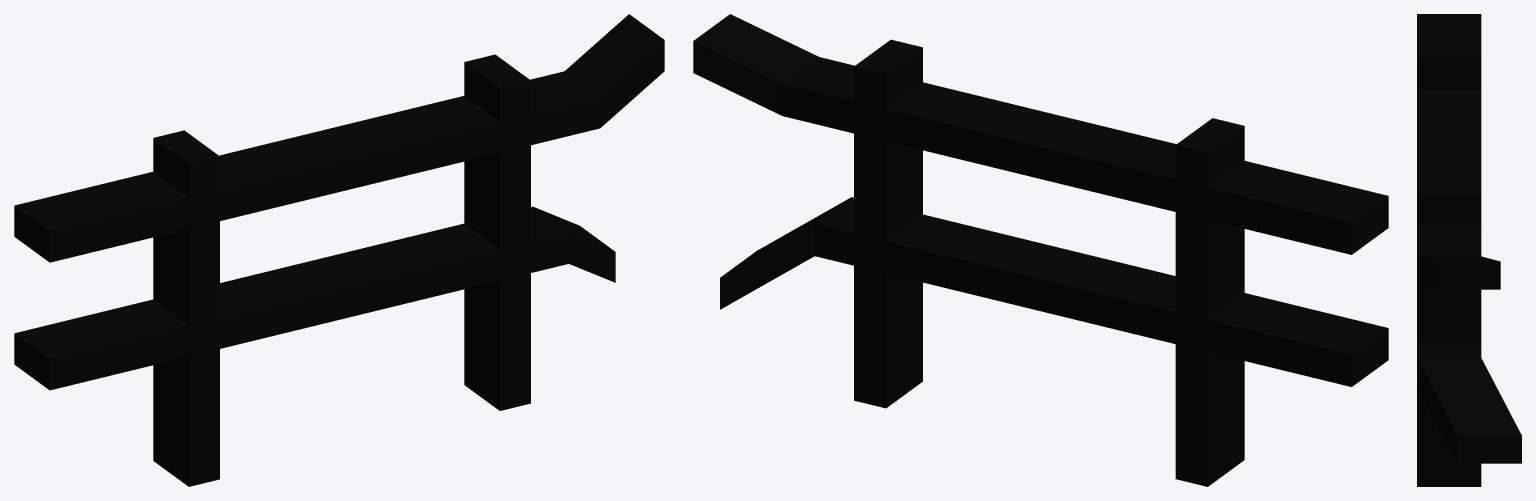
File: NewBrokenFence1.fbx
3 renders of one model, left to right at view 1: azimuth 30°, elevation 25°; view 2: azimuth 150°, elevation 25°; view 3: azimuth 270°, elevation 25°, orthographic. The views are drawn at different scales.
Visible parts, largest first — view 1: Cube.002; view 2: Cube.002; view 3: Cube.002.
Boxes of the visible parts, x1,y1,x2,y2 form: Cube.002: [14, 14, 664, 486]; Cube.002: [693, 14, 1388, 486]; Cube.002: [1417, 14, 1521, 486].
Size of the model in its own units: 405 by 200 by 65.22.
